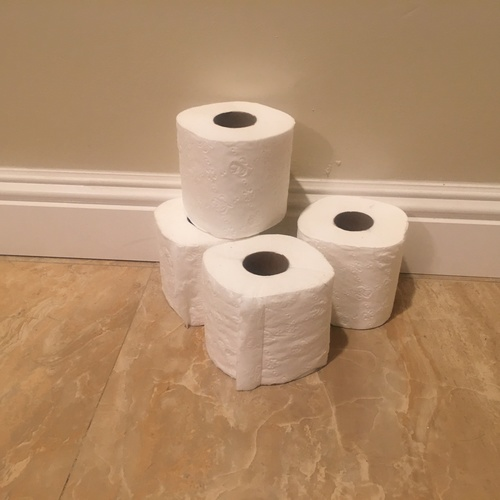roll: (201, 233, 335, 391), (174, 100, 296, 240), (295, 192, 409, 331), (152, 194, 232, 328)
